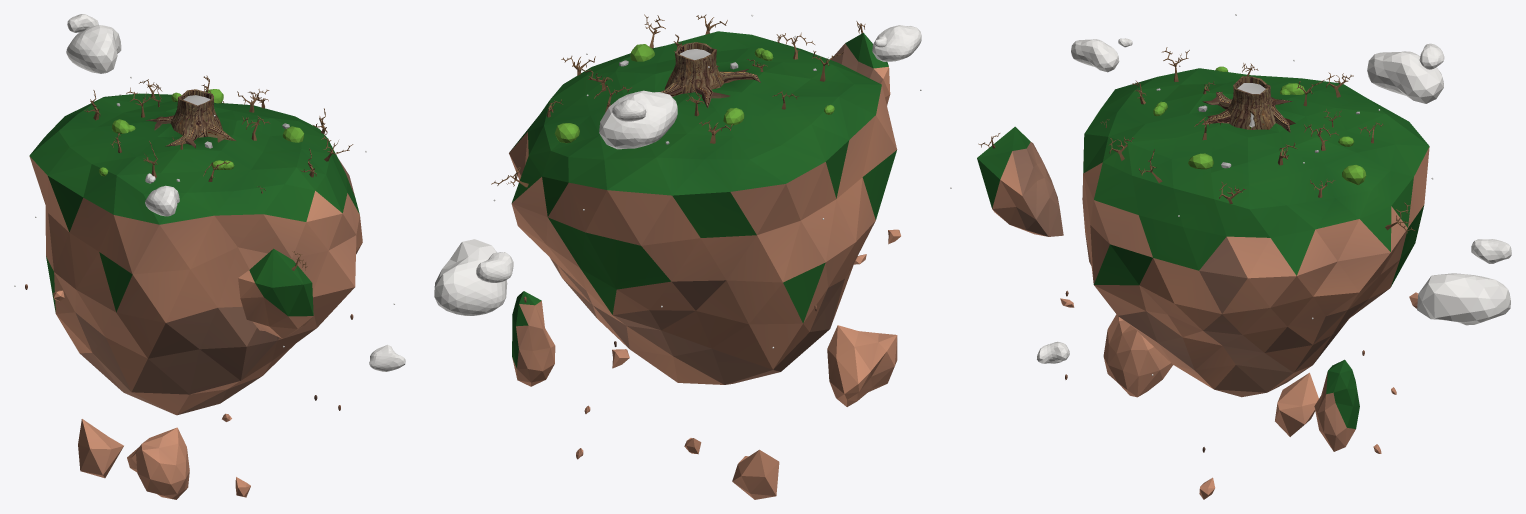
Rendered from arena.glb.
3 renders of one model, left to right at view 1: azimuth 30°, elevation 25°; view 2: azimuth 150°, elevation 25°; view 3: azimuth 270°, elevation 25°, orthographic. The views are drawn at different scales.
Visible parts, largest first — view 1: Forest; view 2: Forest; view 3: Forest.
Boxes of the visible parts, box(x1,y1,x2,y2) form: Forest: box(14, 14, 405, 499); Forest: box(434, 14, 921, 499); Forest: box(950, 14, 1511, 499).
Bounding box in the file's own units: 42.01 × 52.7 × 62.27.
9 materials, 1 textured.
